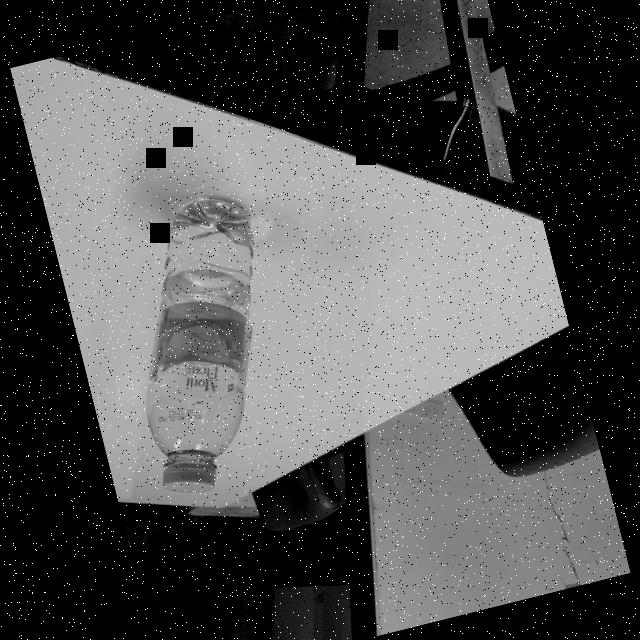plastic_bottle: (96, 186, 312, 500)
plastic_bottle_cap: (158, 450, 225, 502)
